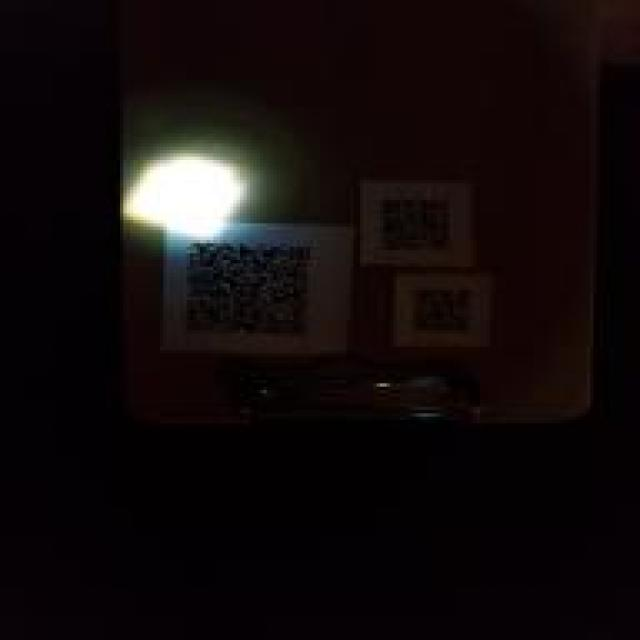QR_CODE: (174, 236, 324, 346), (370, 190, 463, 260), (400, 284, 482, 344)
